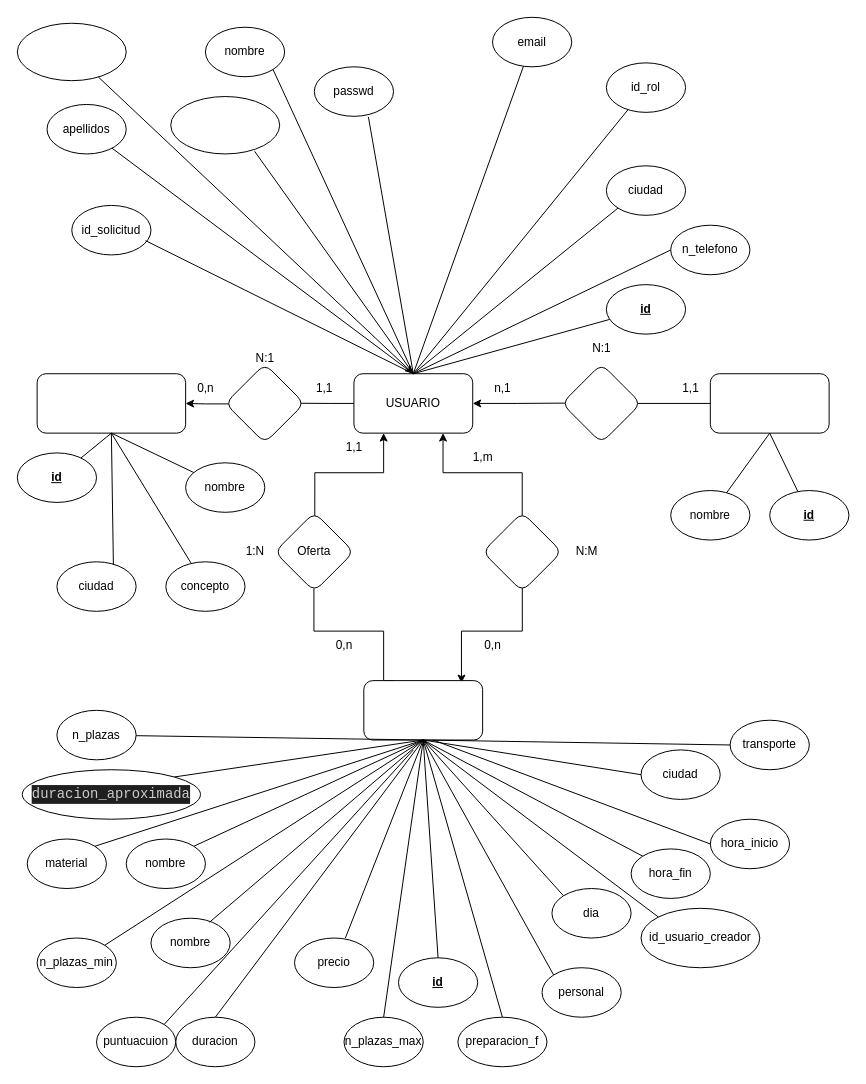
Some shapes in this 866 by 1084 pixel diagram are drawn without their labels. Each missing label, with the centre of its shape:
ACTIVIDAD: the point at 423,710
Consume: the point at 522,551
Crea: the point at 264,403
fecha_nacimiento: the point at 225,125
isActivo: the point at 71,51
ROL: the point at 769,403
SOLICITUD_ACTIVIDAD: the point at 111,403
Tiene: the point at 601,403
